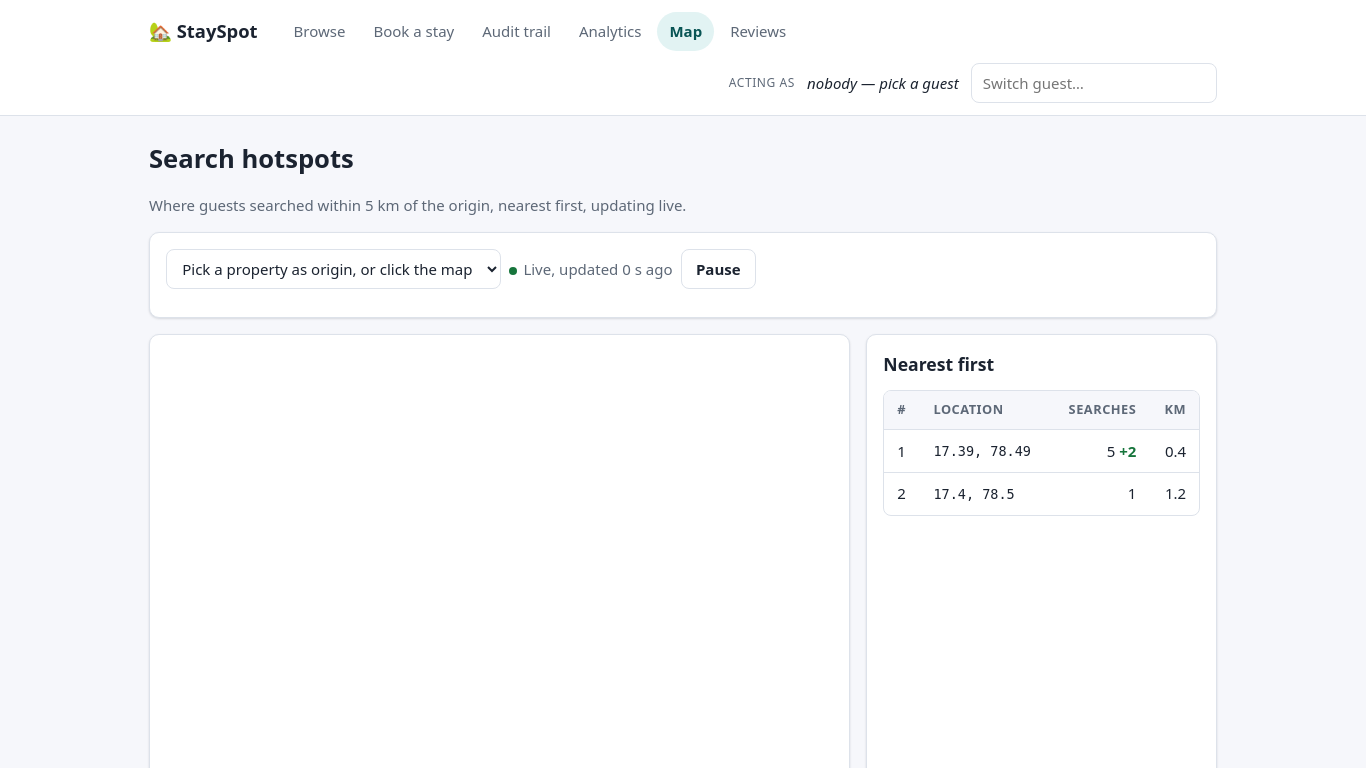
Test: Map › polls hotspots, lists them nearest first and flags new searches
Expected: the text "17.39, 78.49" is shown, [921,430,1051,472]
Click the button "Pause".
click(718, 269)  # box [680,249,756,289]
Wait 9000 ms
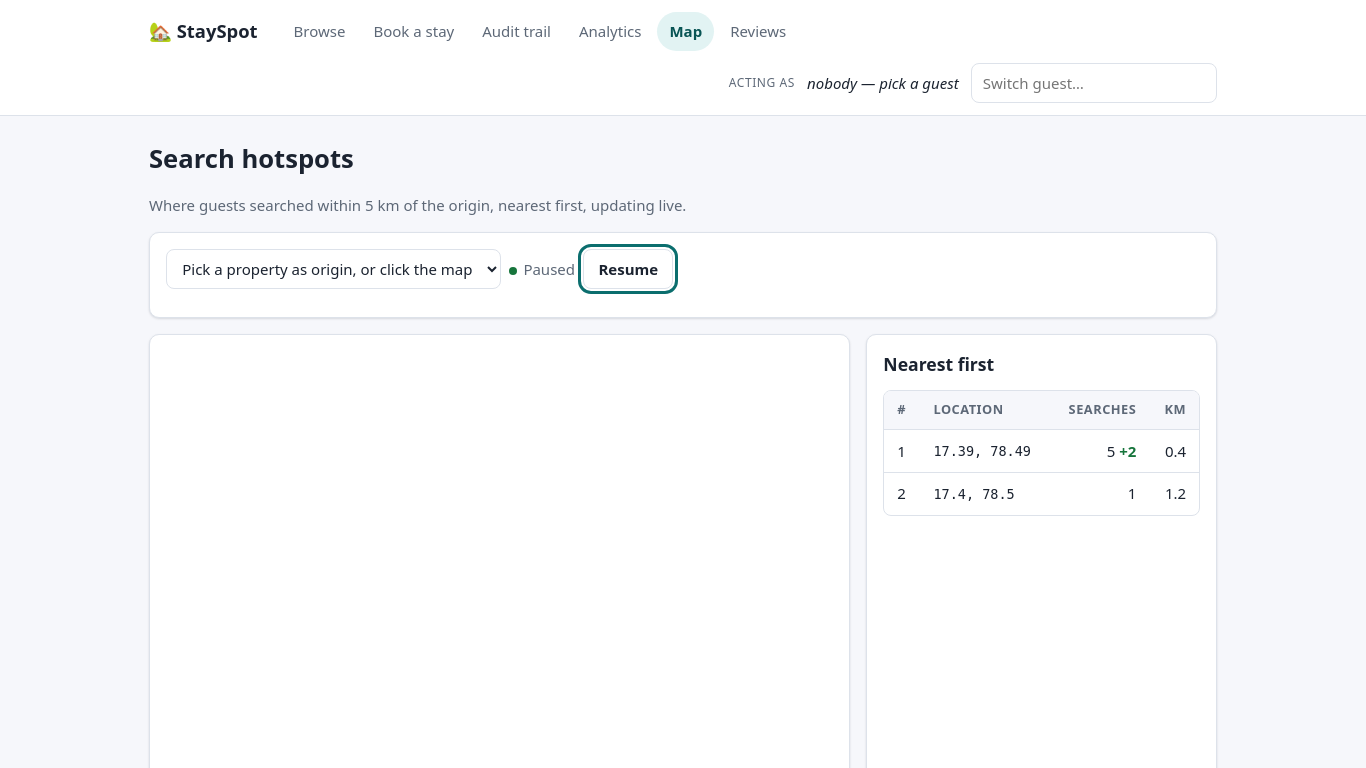
Result: the button "Resume" is shown at [583,249,674,289]
